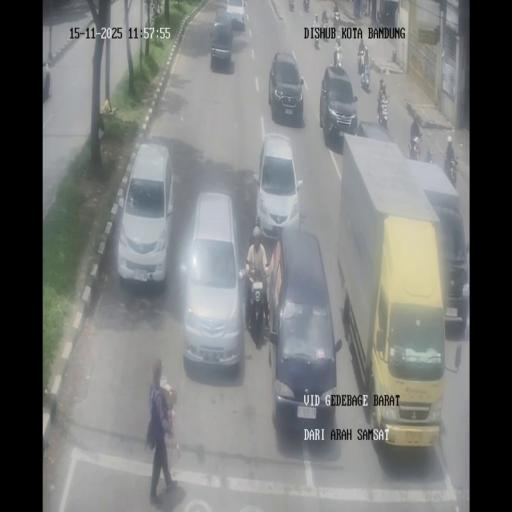3: (337, 136, 453, 448), (358, 120, 396, 143)
car: (268, 229, 339, 439), (180, 189, 243, 370), (117, 140, 173, 285), (426, 191, 470, 330), (254, 131, 302, 242), (319, 64, 358, 143), (268, 51, 304, 126), (210, 11, 234, 70), (42, 60, 50, 101)
truck: (243, 261, 270, 348), (376, 92, 389, 127), (444, 153, 458, 185), (408, 134, 422, 161), (357, 48, 365, 76), (334, 48, 342, 68), (314, 24, 320, 50), (333, 7, 340, 27), (426, 148, 434, 164), (361, 0, 368, 17), (322, 8, 328, 24), (376, 10, 382, 24), (314, 13, 319, 27), (303, 0, 309, 11), (289, 0, 294, 10)
